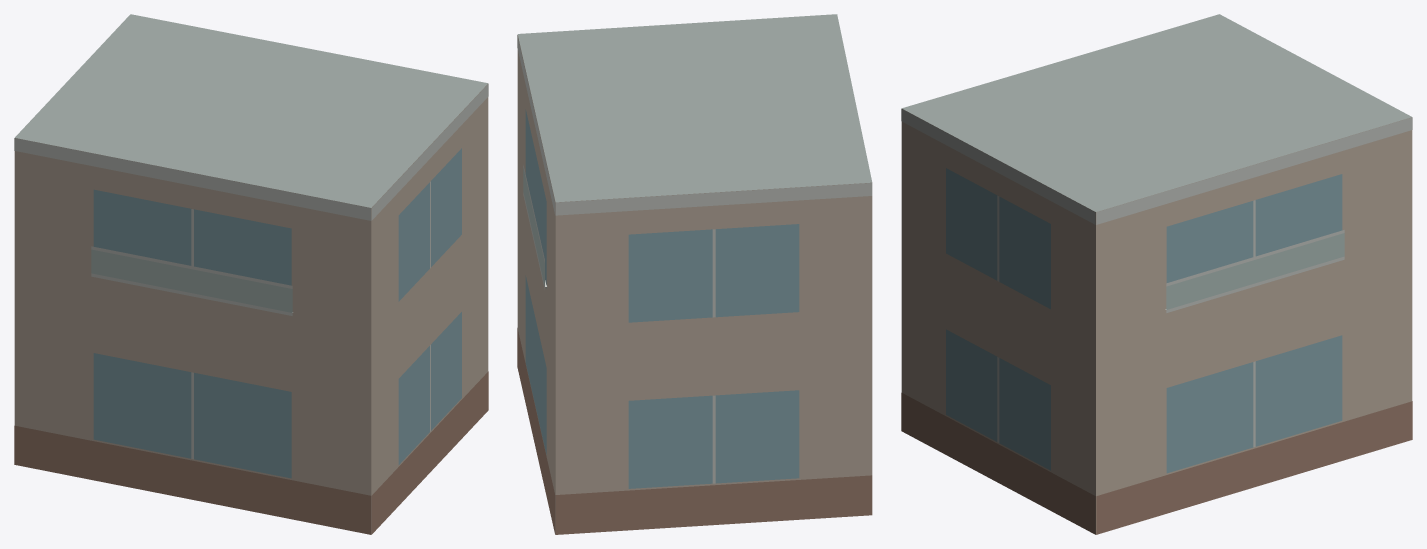
Rendered from survey-upis-32616673.glb.
The picture shows the model from 3 angles, left to right: view 1: azimuth 30°, elevation 25°; view 2: azimuth 150°, elevation 25°; view 3: azimuth 270°, elevation 25°; orthographic projection. The views are drawn at different scales.
Visible parts, largest first — view 1: survey-upis-32616673.tmp; view 2: survey-upis-32616673.tmp; view 3: survey-upis-32616673.tmp.
Part boxes in pixels (<box>): survey-upis-32616673.tmp: <box>14,14,488,534</box>; survey-upis-32616673.tmp: <box>517,14,872,534</box>; survey-upis-32616673.tmp: <box>901,14,1412,534</box>.
Size of the model in its own units: 8.04 by 6.1 by 8.77.
